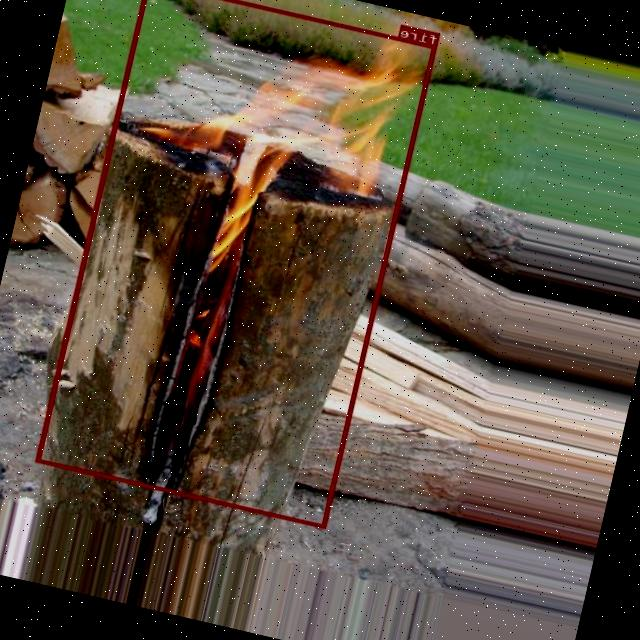fire: (36, 0, 438, 527)
